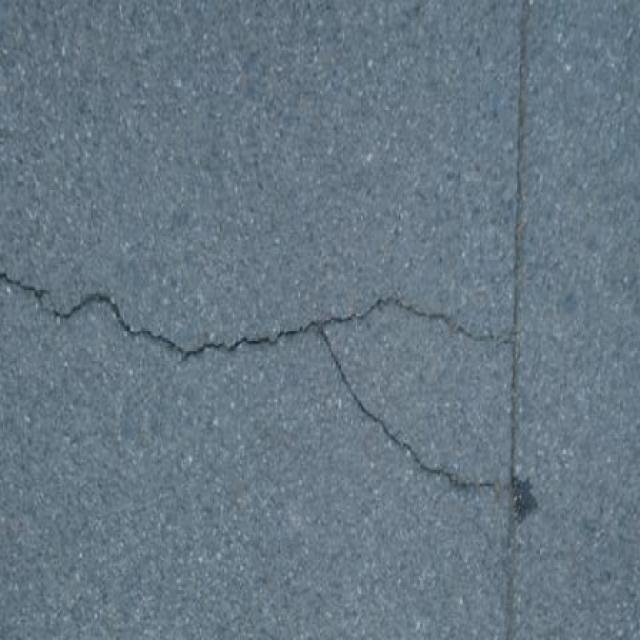diagonal crack: (302, 339, 496, 517)
horizontal crack: (0, 248, 503, 366)
vertical crack: (477, 7, 540, 628)
